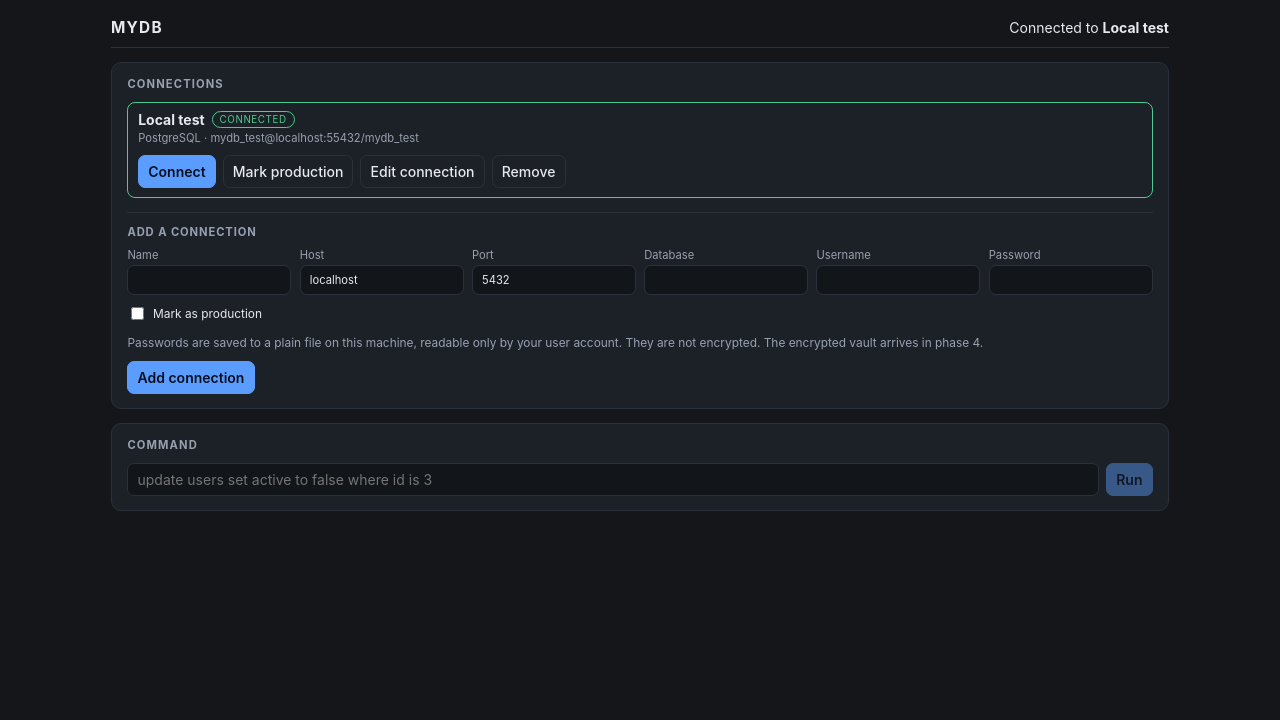
Test: the confirmation loop › offers confirm, edit, and cancel
This screenshot has width=1280, height=720.
Expected: the text "Connected to Local test" is shown, x1=1009 y1=18 x2=1169 y2=36
Type "delete users where active is false" into the field named "Command" at [613, 479], box x1=127 y1=463 x2=1099 y2=496
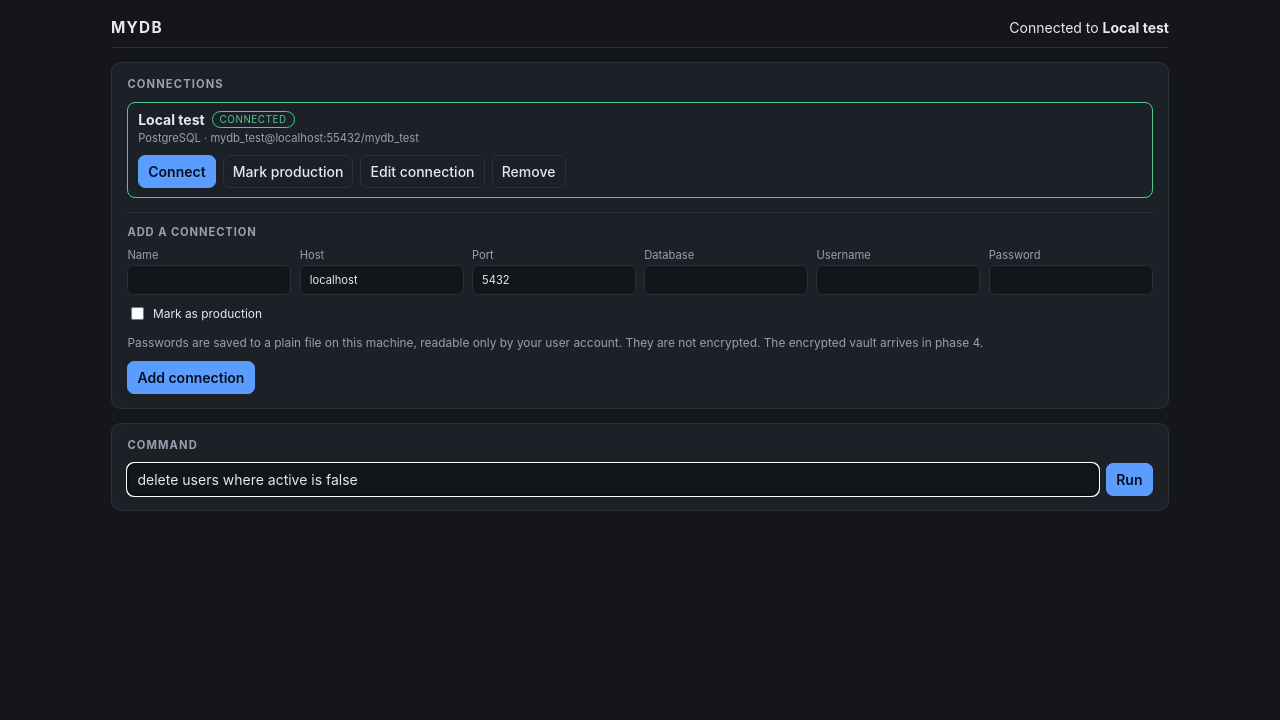
Click the button "Run" at [1129, 479], box x1=1106 y1=463 x2=1153 y2=496
(page scrolled)
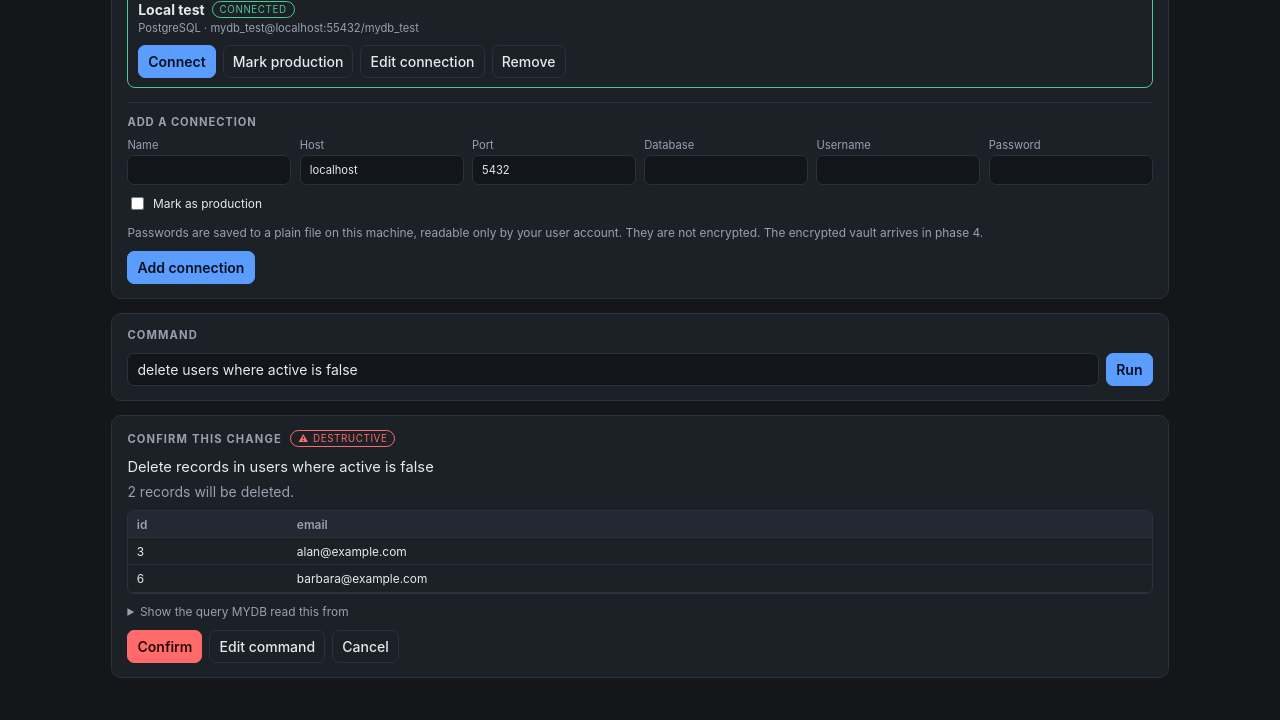
Expected: the button "Confirm" is shown, x1=127 y1=630 x2=202 y2=663
Expected: the button "Edit command" is shown, x1=210 y1=630 x2=325 y2=663
Expected: the button "Cancel" is shown, x1=332 y1=630 x2=399 y2=663
